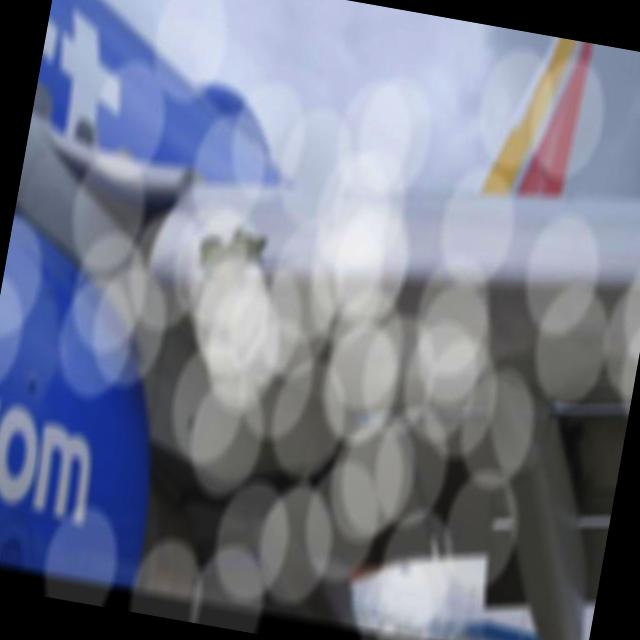crack: (194, 222, 276, 300)
